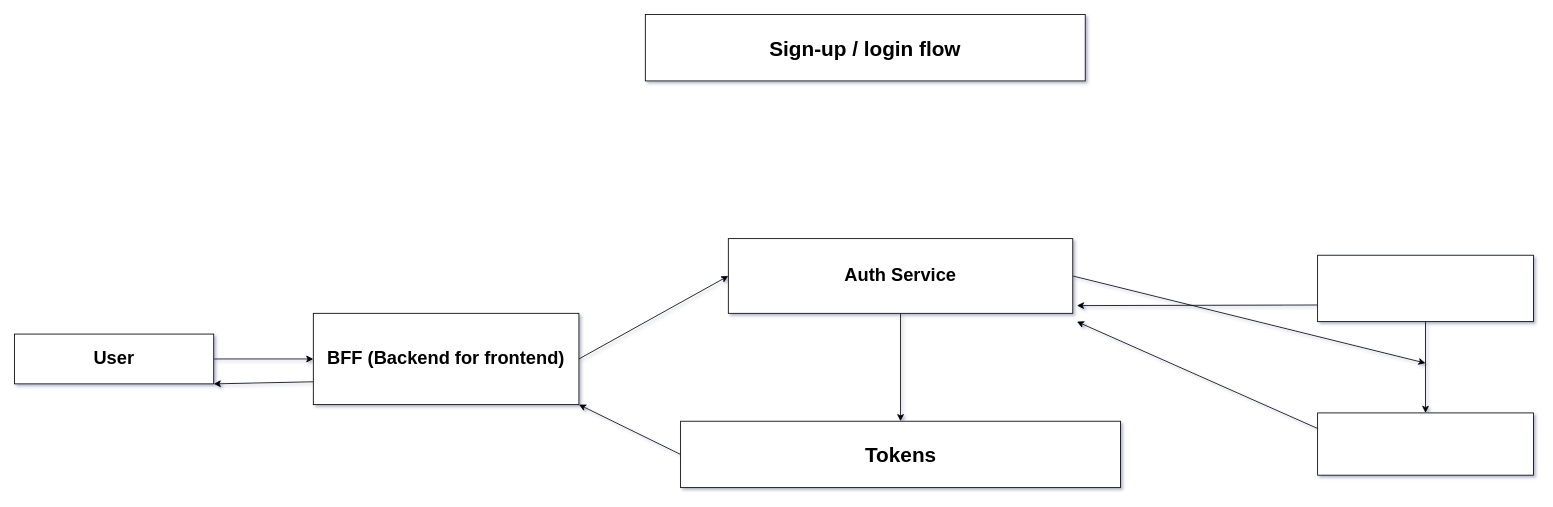
Image size: 1553x507. Some labels were removed from this diagram. Here are the shapes that lost their labels. From the top down, the centre of each, then its label:
At point (1425, 288): "Auth DB".
At point (1425, 443): "Remote DB".
